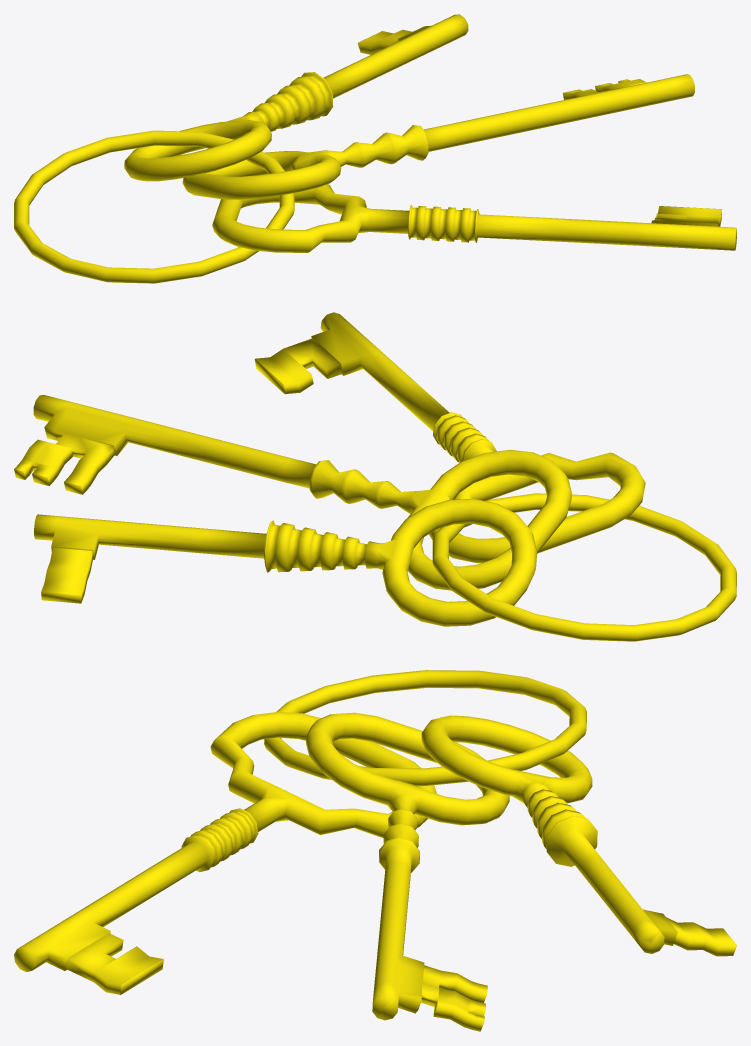
The model's file is onlyKeys.fbx.
3 renders of one model, top to bottom at view 1: azimuth 30°, elevation 25°; view 2: azimuth 150°, elevation 25°; view 3: azimuth 270°, elevation 25°, orthographic. The views are drawn at different scales.
Visible parts, largest first — view 1: key_B; view 2: key_B; view 3: key_B.
Boxes of the visible parts, x1,y1,x2,y2 form: key_B: (14,14,736,283); key_B: (14,312,736,641); key_B: (14,670,736,1031).
Size of the model in its own units: 35.28 by 3.66 by 30.03.
